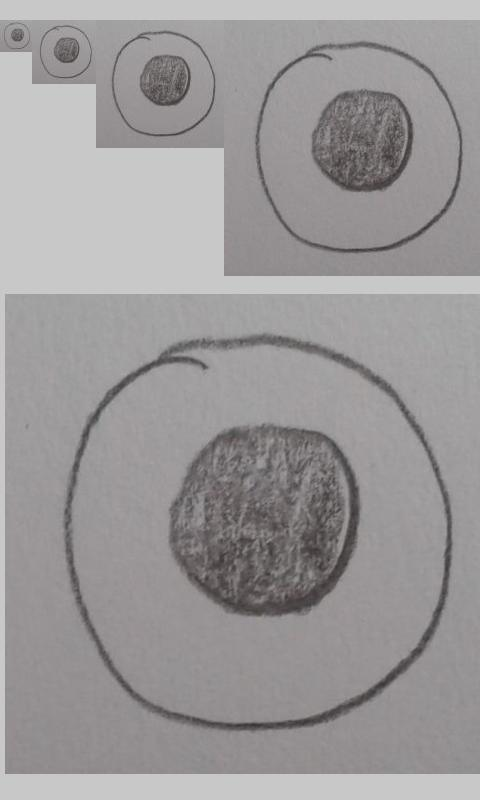radio_button: (58, 329, 457, 734), (252, 39, 465, 256), (109, 28, 218, 138), (38, 24, 93, 80), (3, 22, 31, 50)
